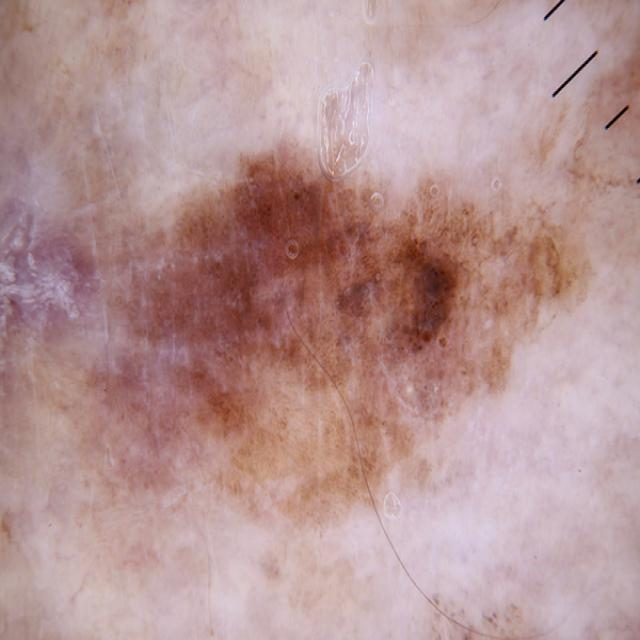Skin-Cancer Pigmented benign keratosis: (14, 26, 622, 623)
